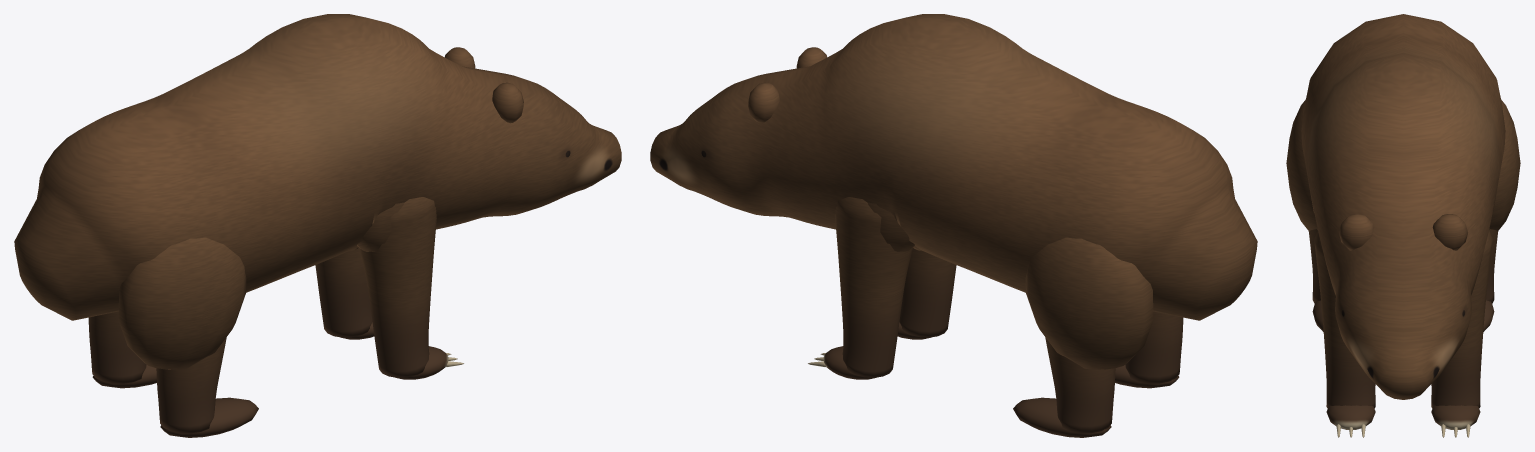
Rendered from bear.fbx.
3 views of the same model, side by side, from view 1: azimuth 30°, elevation 25°; view 2: azimuth 150°, elevation 25°; view 3: azimuth 270°, elevation 25° (orthographic). The views are drawn at different scales.
Parts seen in each view (by area): view 1: bear; view 2: bear; view 3: bear.
Boxes of the visible parts, box(x1,y1,x2,y2) form: bear: box(14, 14, 621, 437); bear: box(650, 14, 1257, 437); bear: box(1286, 14, 1520, 437).
Bounding box in the file's own units: 70.62 × 197 × 110.
1 material, 1 textured.
